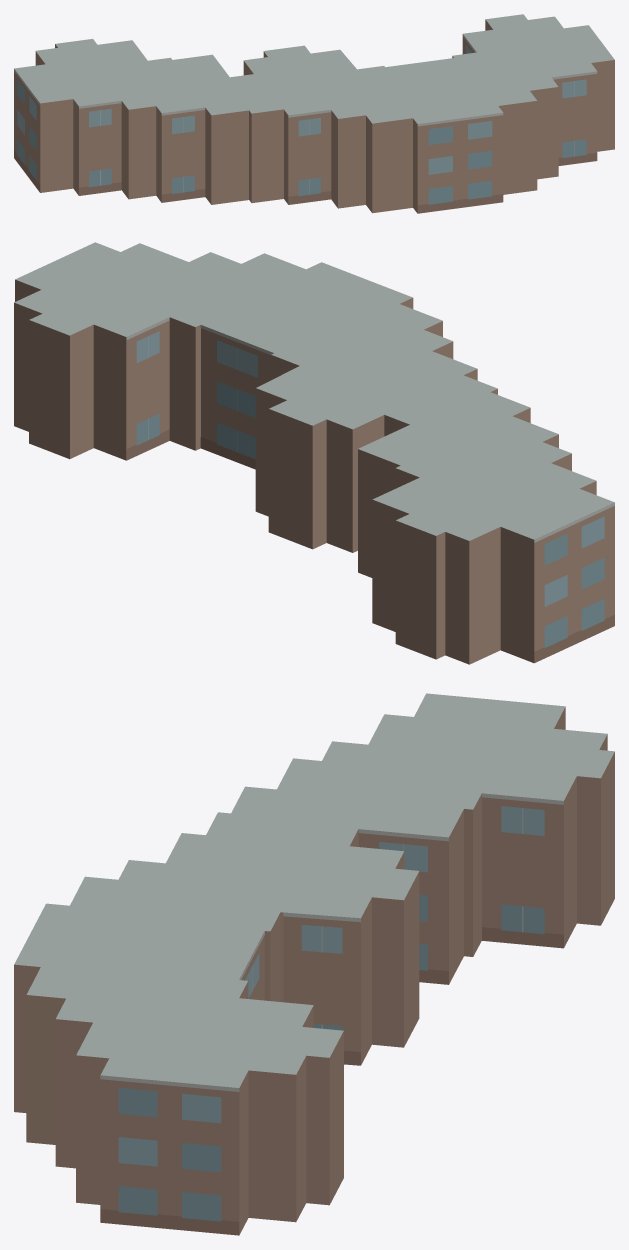
File: survey-upis-32808777.glb
3 views of the same model, one above another, from view 1: azimuth 30°, elevation 25°; view 2: azimuth 150°, elevation 25°; view 3: azimuth 270°, elevation 25° (orthographic). The views are drawn at different scales.
Visible parts, largest first — view 1: survey-upis-32808777.tmp; view 2: survey-upis-32808777.tmp; view 3: survey-upis-32808777.tmp.
Part boxes in pixels (left/top/right/bottom): survey-upis-32808777.tmp: left=14, top=14, right=614, bottom=213; survey-upis-32808777.tmp: left=14, top=242, right=614, bottom=664; survey-upis-32808777.tmp: left=14, top=693, right=614, bottom=1235.
Size of the model in its own units: 52.55 by 9.15 by 33.81.
